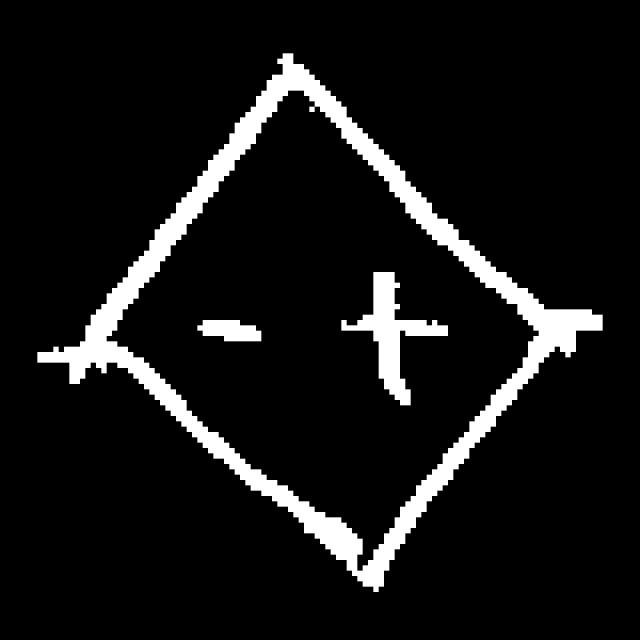dependant_voltage: (78, 54, 570, 593)
